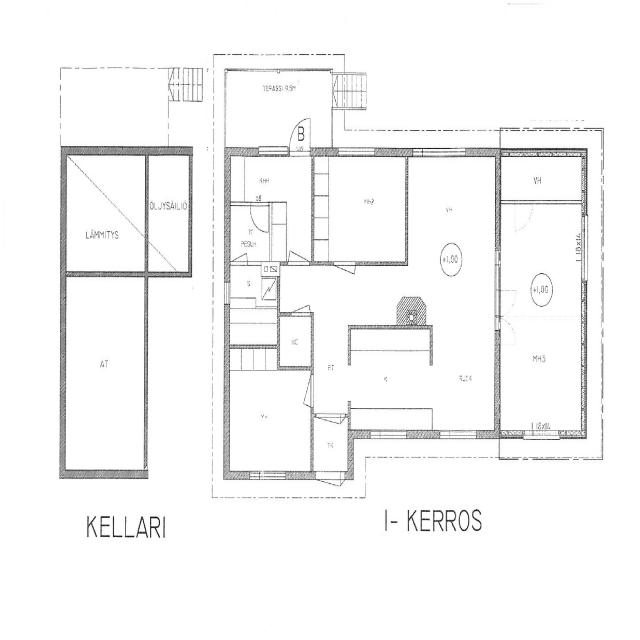door: (316, 471, 340, 517), (92, 110, 116, 155), (316, 414, 340, 454), (92, 272, 115, 310), (289, 116, 310, 156), (334, 262, 356, 298), (288, 229, 310, 265), (290, 375, 313, 407), (125, 235, 148, 265), (250, 202, 269, 233), (292, 284, 310, 316), (495, 291, 517, 316), (515, 200, 533, 230), (232, 237, 248, 265), (340, 472, 345, 488), (340, 414, 346, 426)
